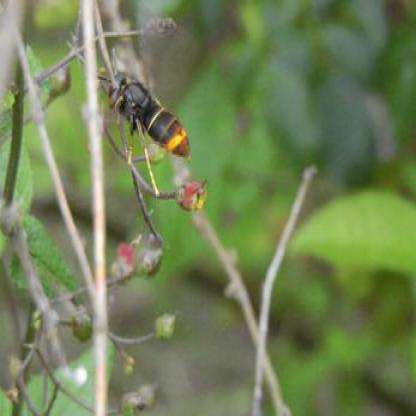Asian Hornet: (99, 61, 199, 162)
